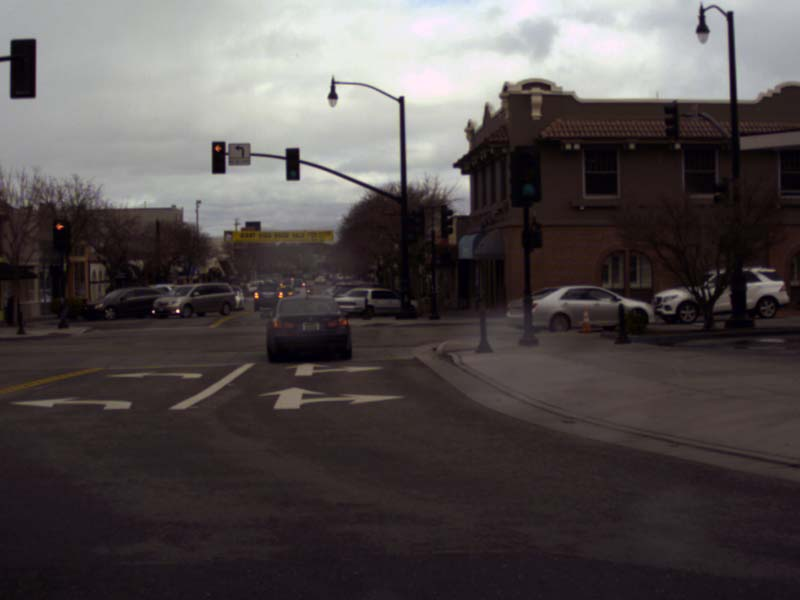Red: (53, 219, 67, 250), (212, 142, 225, 173)
